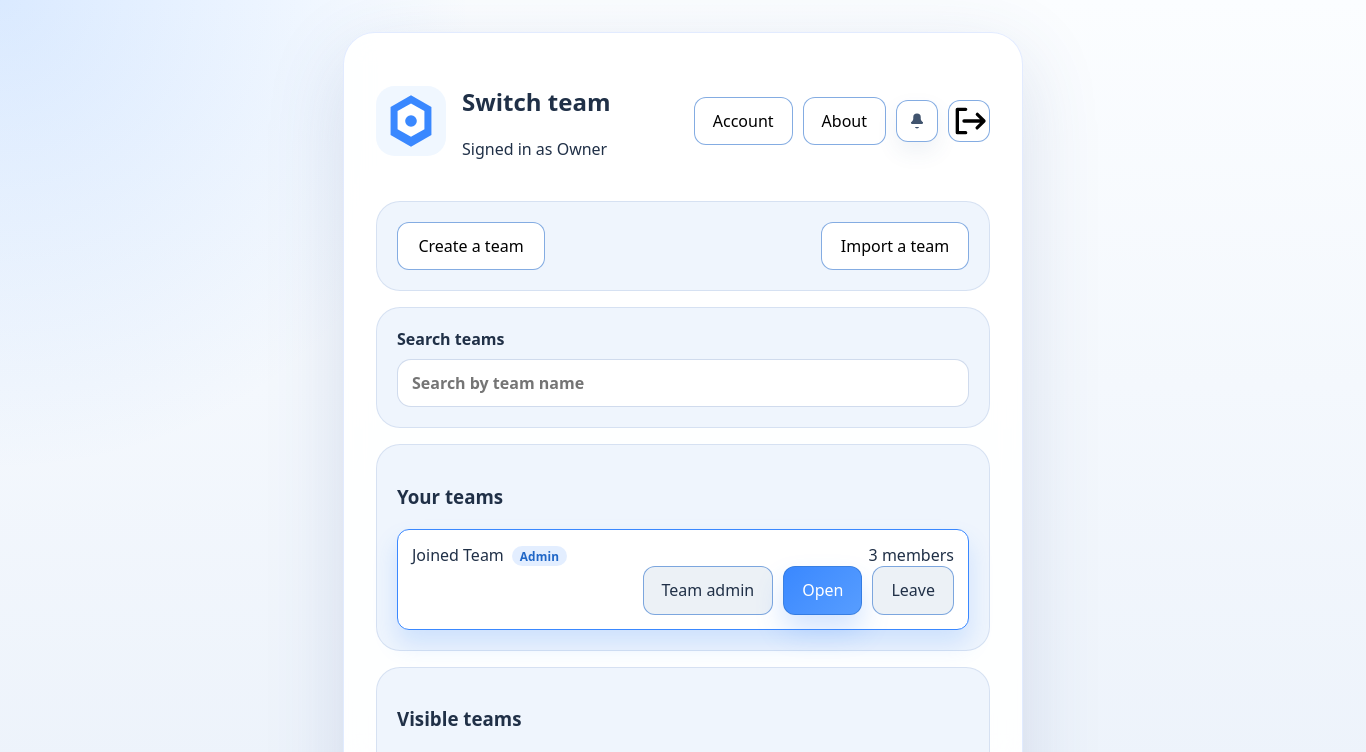
Test: App › shows a generated password for manual sharing when SMTP-backed invitation mail is unavailable
Click the button "Team admin" at (708, 590), box [642, 566, 773, 615]
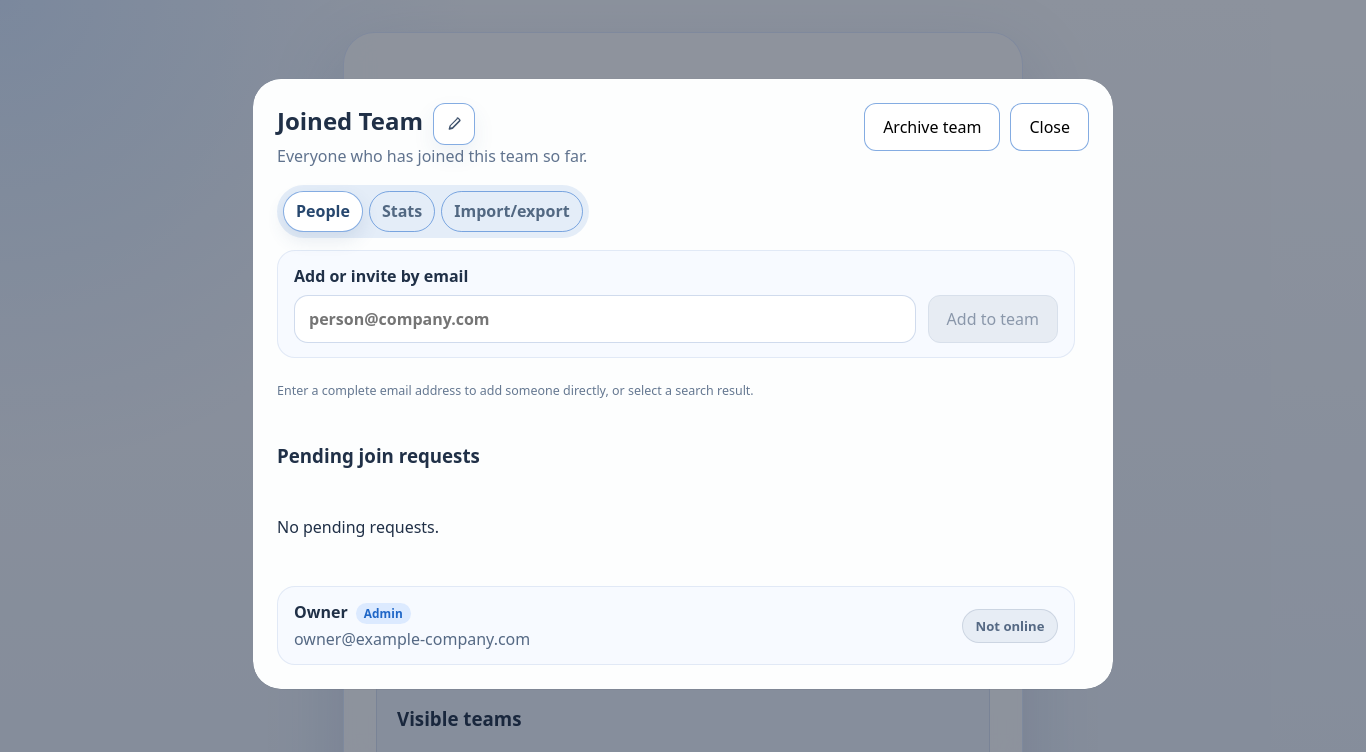
Now the dialog named "Joined Team people" is shown, box [253, 79, 1113, 689]
Type "new.person@example-company.com" into the field with placeholder "person@company.com" at (605, 319), box [294, 295, 916, 343]
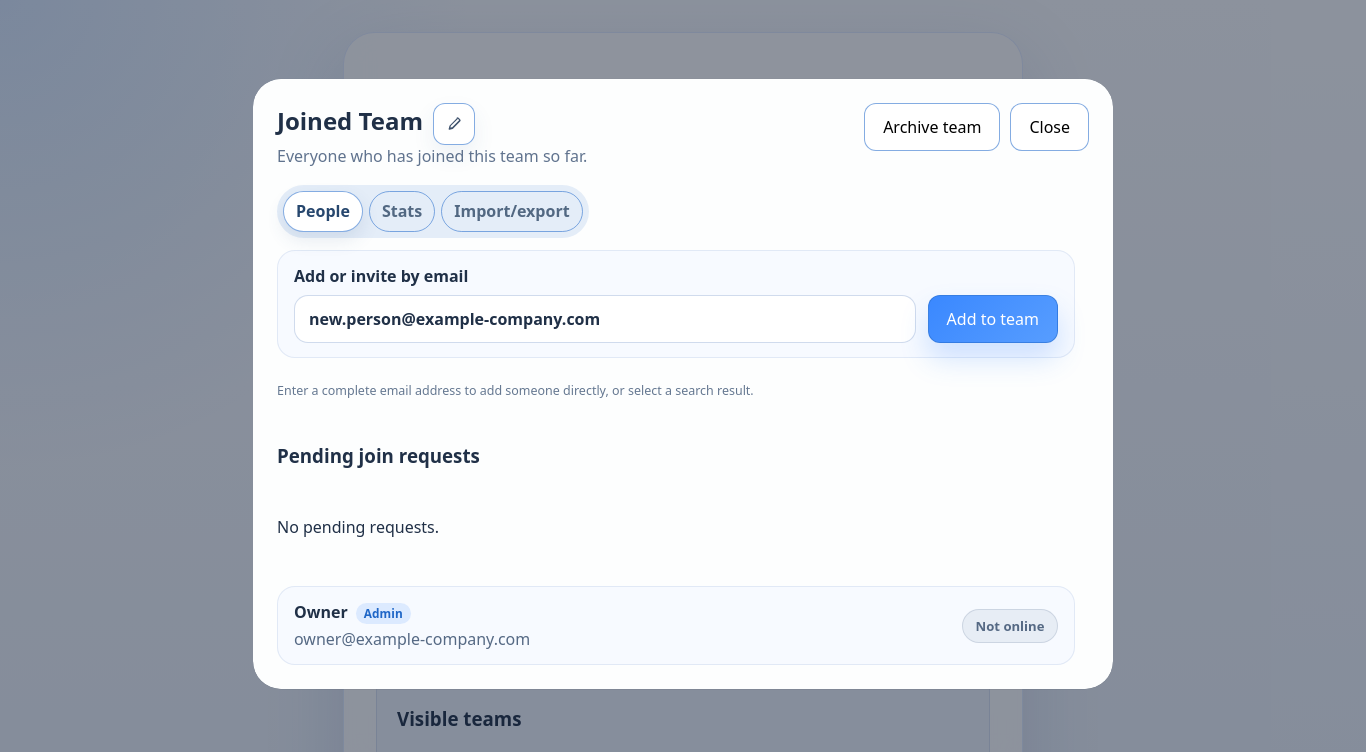
Click the button "Add to team" at (993, 319), box [928, 295, 1058, 343]
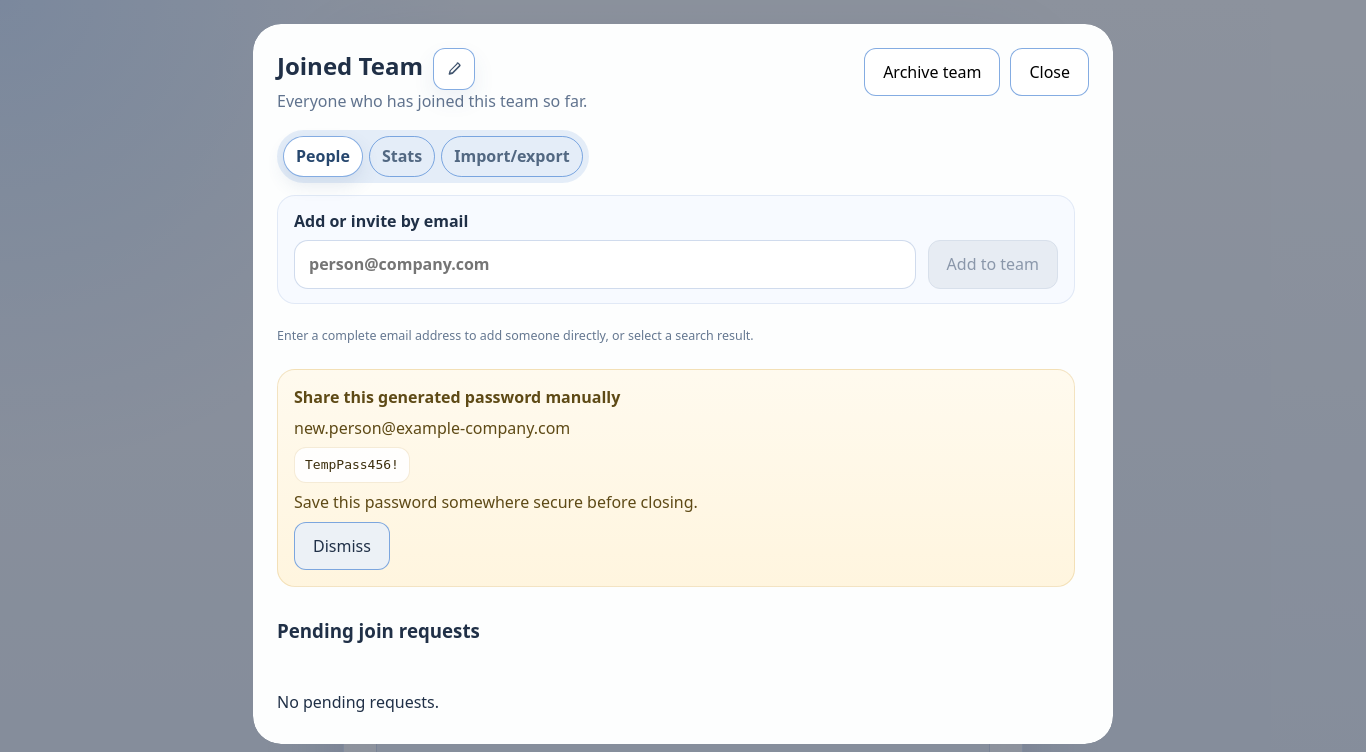
Now the text "Share this generated password manually" is shown, box [294, 386, 620, 408]
Now the text "new.person@example-company.com" is shown, box [294, 417, 570, 439]
Now the text "Save this password somewhere secure before closing." is shown, box [294, 491, 698, 513]
